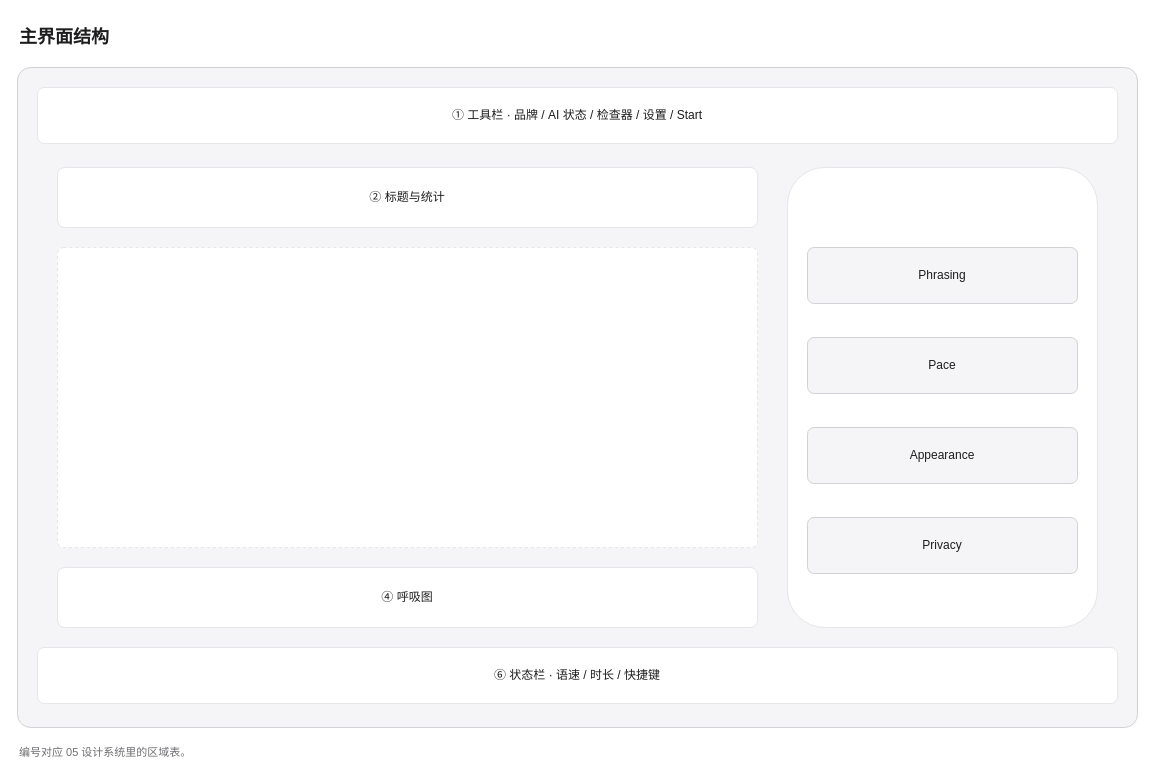
Some shapes in this 1155 by 784 pixel diagram are drawn without their labels. The shapes that lost their labels are listed below. From the top down, each one's box as (x1, y1, x2, y2) in pixels, then its label:
(56, 246, 758, 548): ③ 稿纸（可滚动）
(786, 166, 1098, 628): ⑤ 检查器
